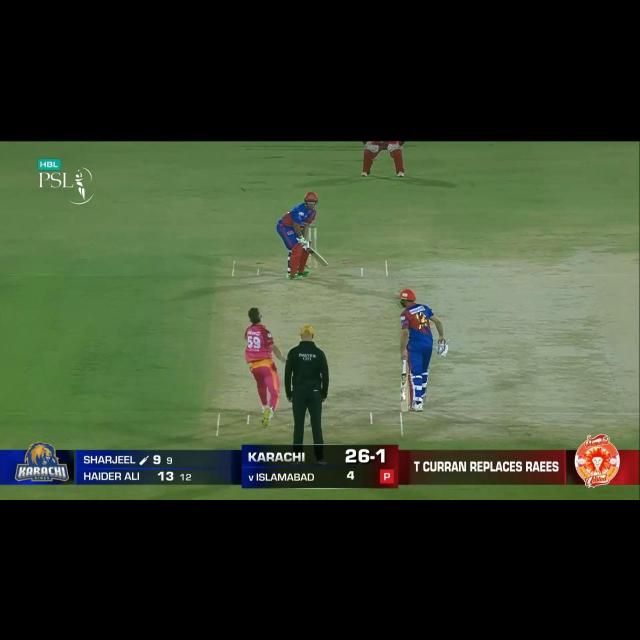bat: (306, 244, 329, 270), (399, 370, 410, 412)
toe: (319, 258, 329, 268), (398, 406, 410, 411)
